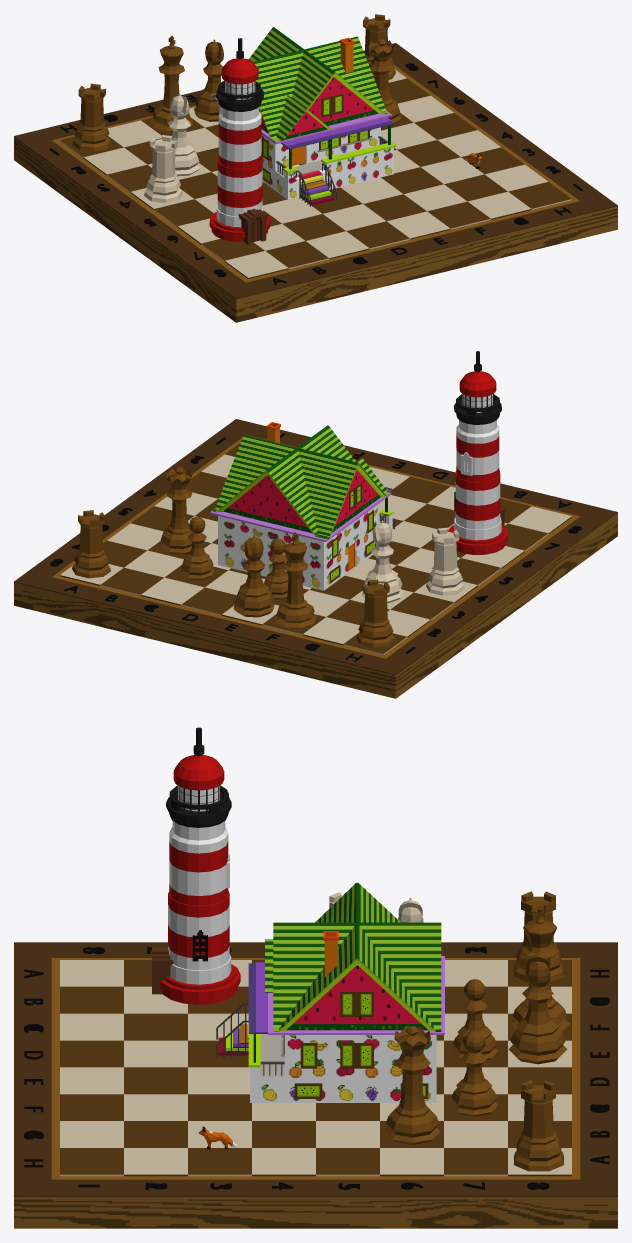
3 views of the same model, one above another, from view 1: azimuth 30°, elevation 25°; view 2: azimuth 150°, elevation 25°; view 3: azimuth 270°, elevation 25° (orthographic). The views are drawn at different scales.
Parts seen in each view (by area): view 1: Cube.002, Cube.1063, OBJRANDOM_LIGHTHOUSE; view 2: Cube.002, Cube.1063, OBJRANDOM_LIGHTHOUSE; view 3: Cube.002, Cube.1063, OBJRANDOM_LIGHTHOUSE.
Boxes of the visible parts, left/top/right/bottom form: Cube.002: left=14, top=14, right=617, bottom=322; Cube.1063: left=211, top=27, right=396, bottom=206; OBJRANDOM_LIGHTHOUSE: left=209, top=38, right=270, bottom=244; Cube.002: left=14, top=419, right=617, bottom=698; Cube.1063: left=210, top=422, right=394, bottom=590; OBJRANDOM_LIGHTHOUSE: left=447, top=351, right=508, bottom=554; Cube.002: left=14, top=891, right=617, bottom=1228; Cube.1063: left=216, top=882, right=444, bottom=1102; OBJRANDOM_LIGHTHOUSE: left=152, top=727, right=240, bottom=1004.
Size of the model in its own units: 3981 by 2235 by 4012.
29 materials, 4 textured.
